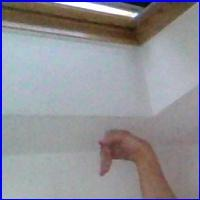del: (94, 125, 158, 182)
